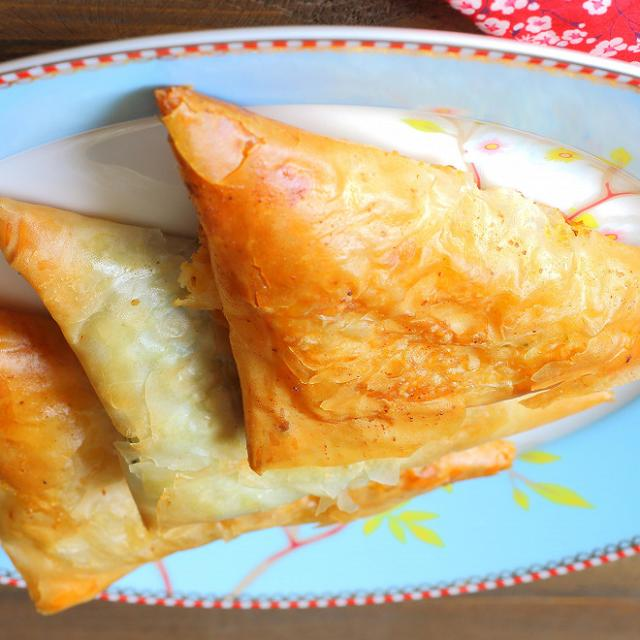brik: (217, 98, 640, 481), (87, 256, 242, 542), (0, 426, 220, 612)
